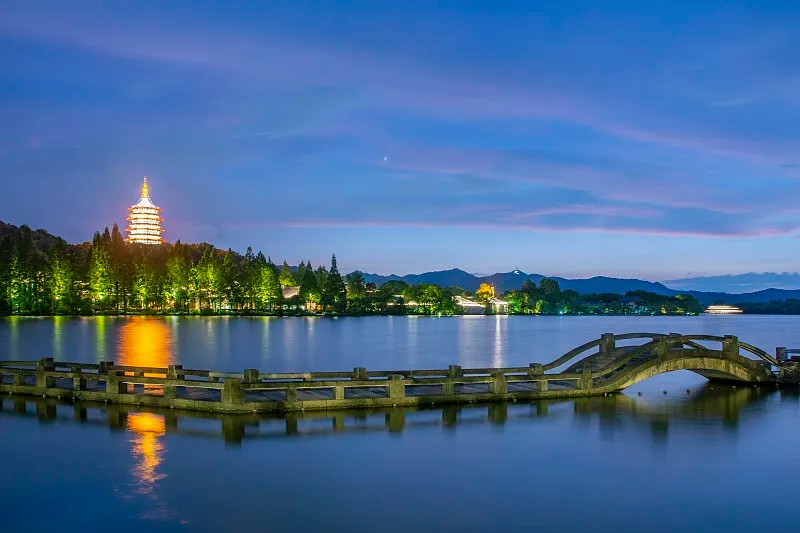Leifeng: (123, 175, 167, 247)
